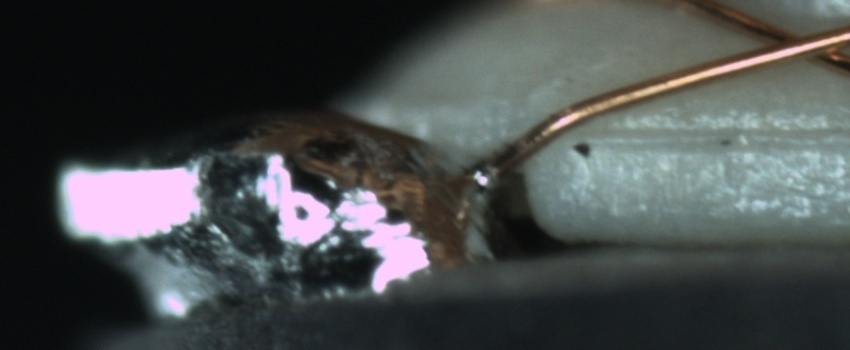CL: (741, 12, 850, 72)
DL: (584, 105, 842, 169)
